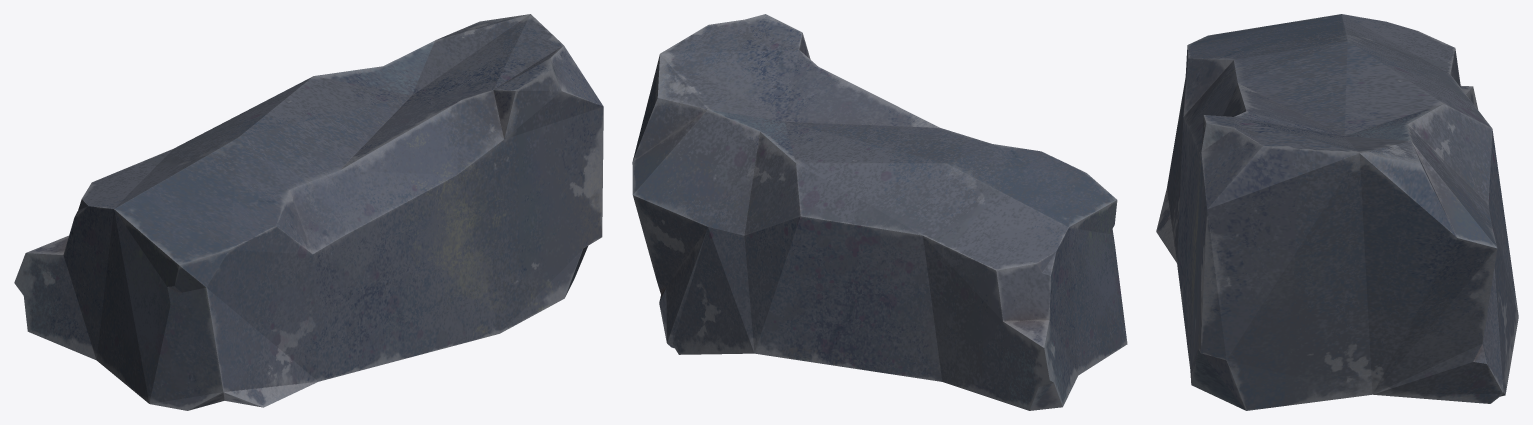
File: Rock2.fbx
3 views of the same model, side by side, from view 1: azimuth 30°, elevation 25°; view 2: azimuth 150°, elevation 25°; view 3: azimuth 270°, elevation 25° (orthographic). The views are drawn at different scales.
Visible parts, largest first — view 1: stylized_rock_70; view 2: stylized_rock_70; view 3: stylized_rock_70.
Boxes of the visible parts, x1=… form: stylized_rock_70: x1=14, y1=14, x2=603, y2=410; stylized_rock_70: x1=632, y1=14, x2=1127, y2=410; stylized_rock_70: x1=1156, y1=14, x2=1518, y2=410.
Bounding box in the file's own units: 3553 × 1850 × 2064.
1 material, 1 textured.
